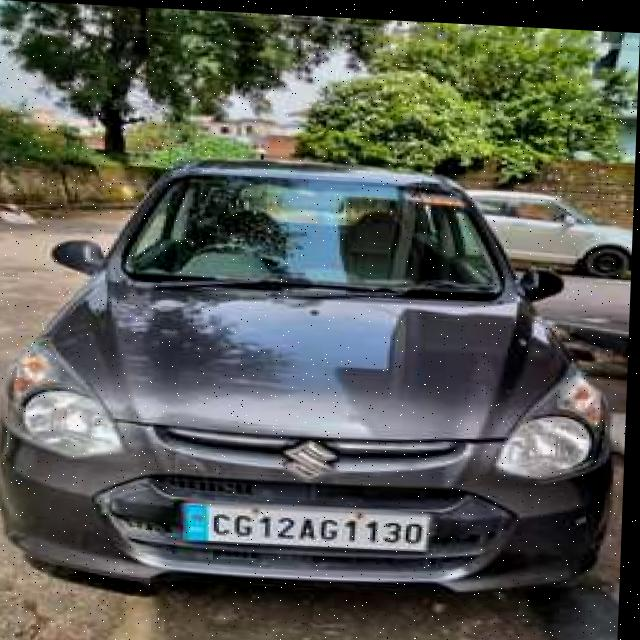plate: (181, 497, 440, 557)
